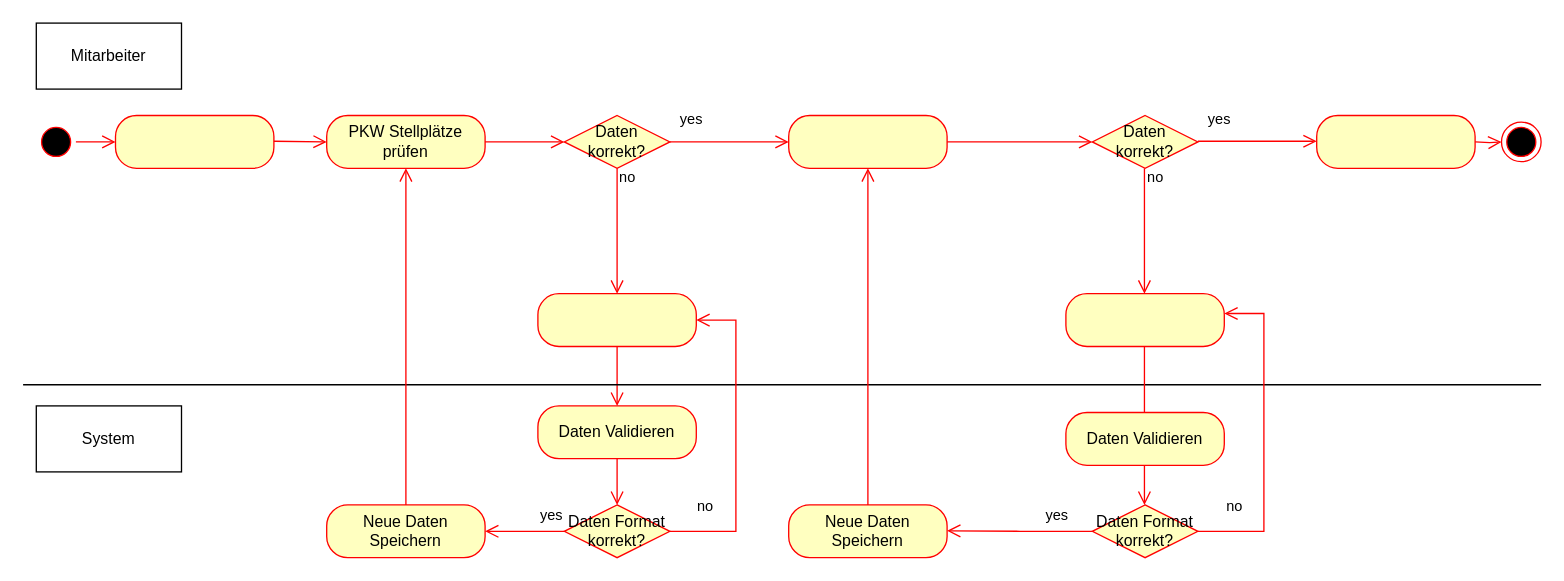
The diagram is 1564 pixels wide and 581 high, and some of its shapes have lost their labels. Here are the shapes that lost their labels. From the top down, the centre of each, then its label:
At point 194,141: "Stammdaten Überprüfung starten".
At point 867,141: "Fahrzeugaufbereitung Zustand prüfen".
At point 1395,141: "Stammdaten Überprüfung beenden".
At point 616,319: "PKW Stellplatz Daten anpassen".
At point 1144,319: "Fahrzeugaufbereitung Zustand anpassen".
